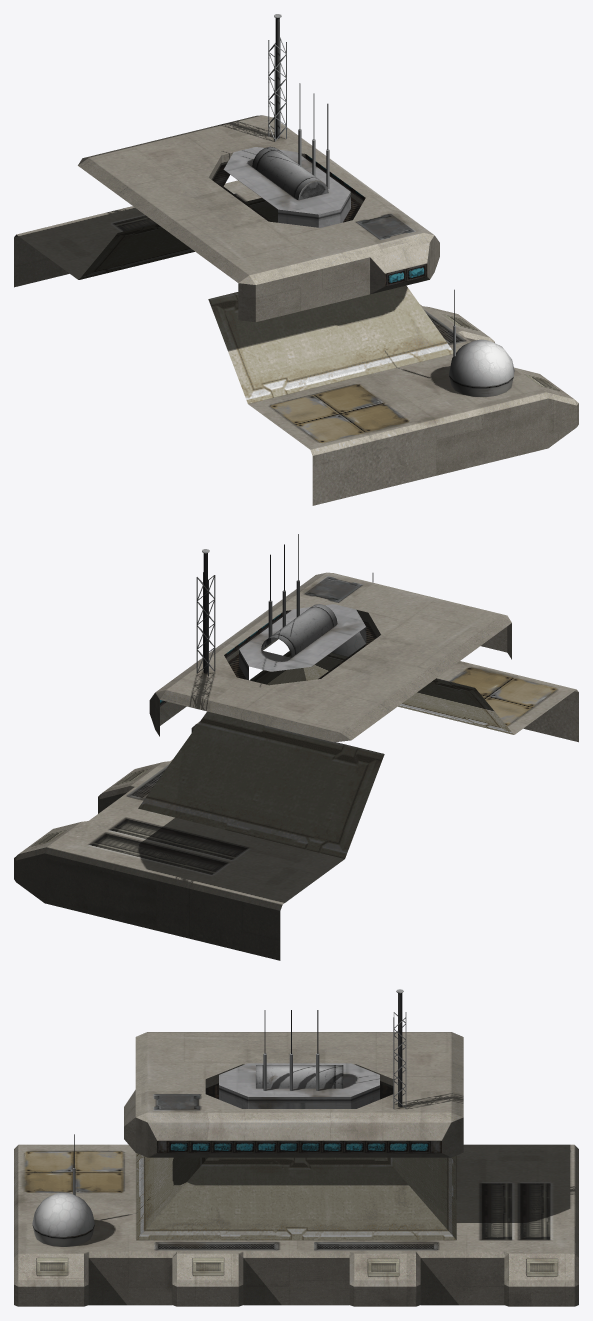
File: ML2_Turret_L.FBX
3 views of the same model, one above another, from view 1: azimuth 30°, elevation 25°; view 2: azimuth 150°, elevation 25°; view 3: azimuth 270°, elevation 25° (orthographic). The views are drawn at different scales.
Parts seen in each view (by area): view 1: ML2_ Turret_L; view 2: ML2_ Turret_L; view 3: ML2_ Turret_L.
Part boxes in pixels (box(x1,y1,x2,y2)): ML2_ Turret_L: box(14, 14, 578, 505); ML2_ Turret_L: box(14, 534, 578, 960); ML2_ Turret_L: box(14, 989, 578, 1306).
Bounding box in the file's own units: 8.63 × 9.08 × 16.39.
Materials: 1 (1 with a texture image).
